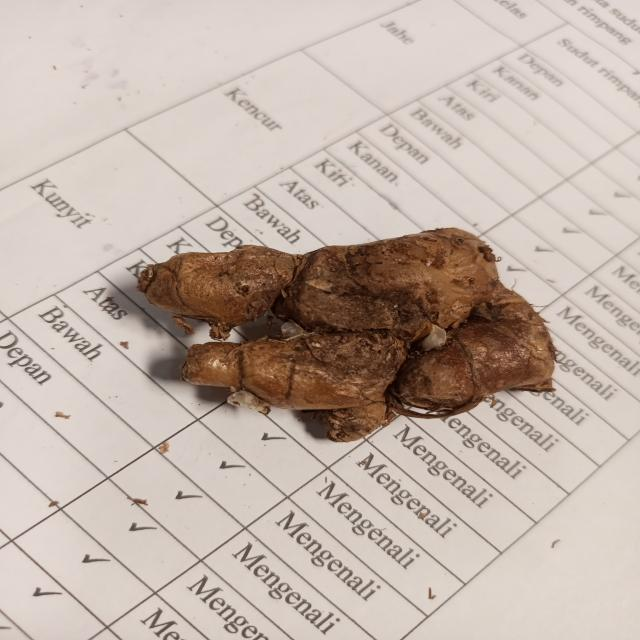ginger: (150, 246, 560, 416)
